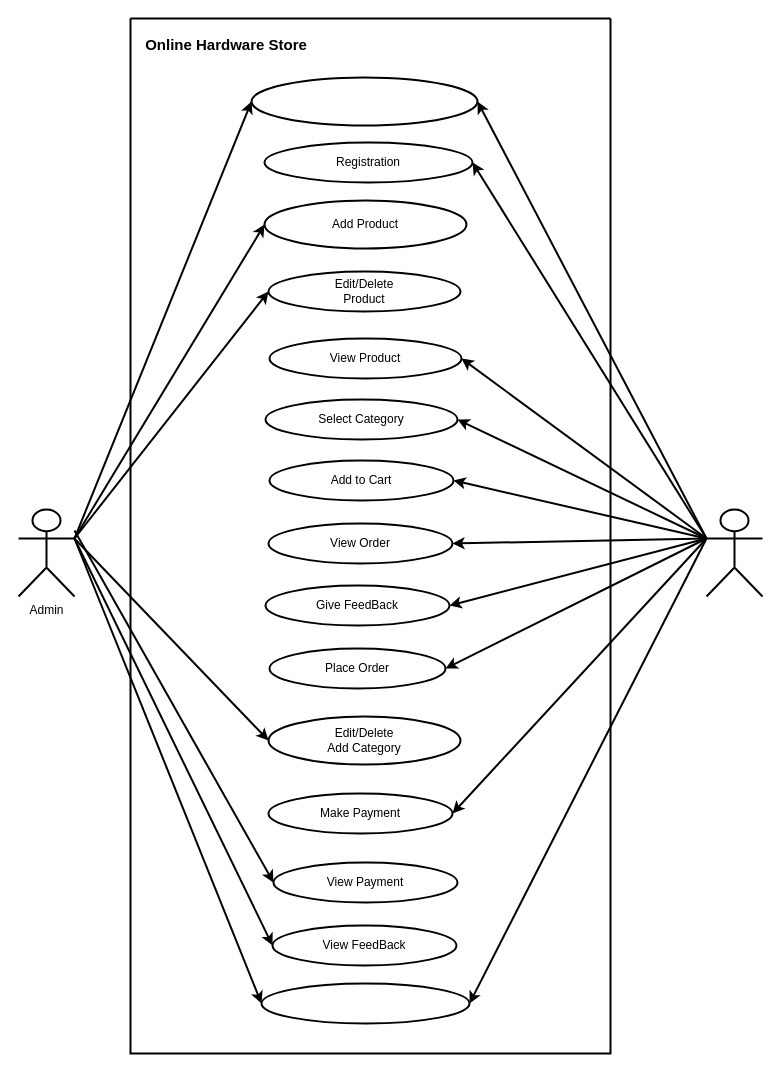
The diagram is 780 pixels wide and 1071 high, and some of its shapes have lost their labels. The box of each missing label's shape, as (x1, y1, x2, y2) in pixels:
Login: (250, 76, 478, 126)
LogOut: (260, 982, 470, 1024)
User: (705, 508, 763, 597)
